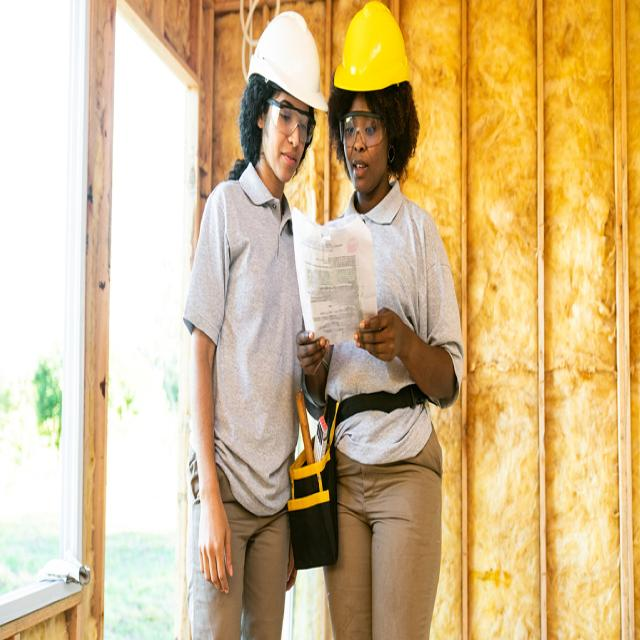Hard Hat: (241, 0, 331, 125), (331, 0, 425, 97)
Safety Glasses: (257, 85, 326, 154), (332, 101, 397, 152)
